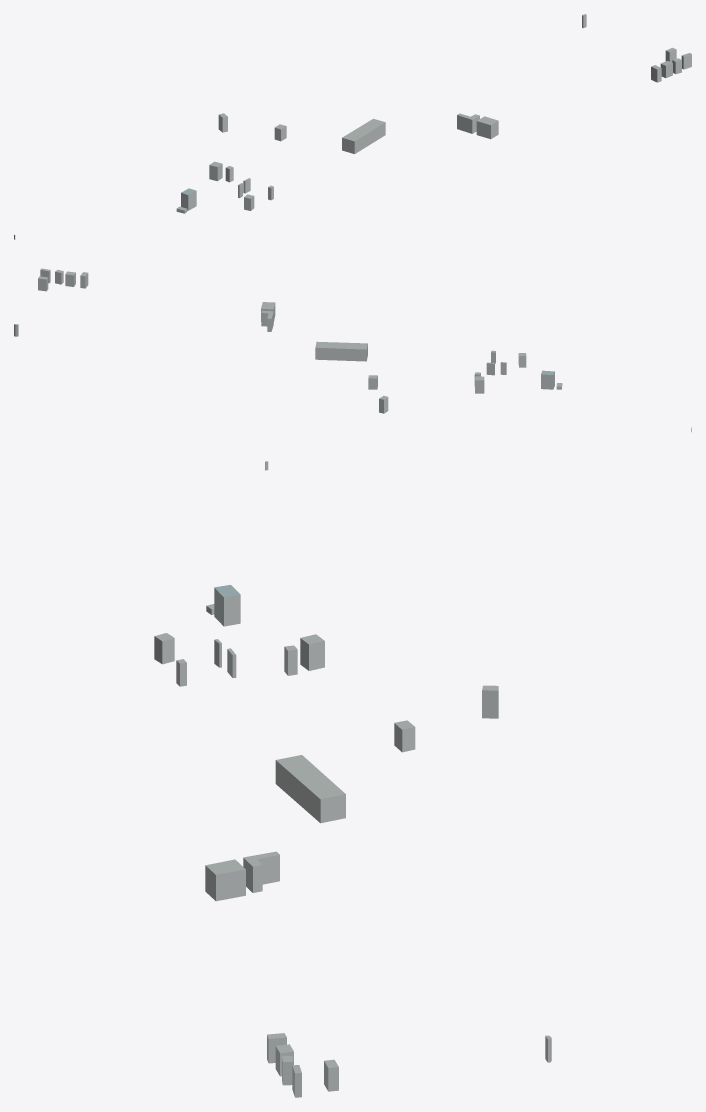
Rendered from far.glb.
3 views of the same model, one above another, from view 1: azimuth 30°, elevation 25°; view 2: azimuth 150°, elevation 25°; view 3: azimuth 270°, elevation 25° (orthographic). The views are drawn at different scales.
Size of the model in its own units: 861 by 18.7 by 230.
